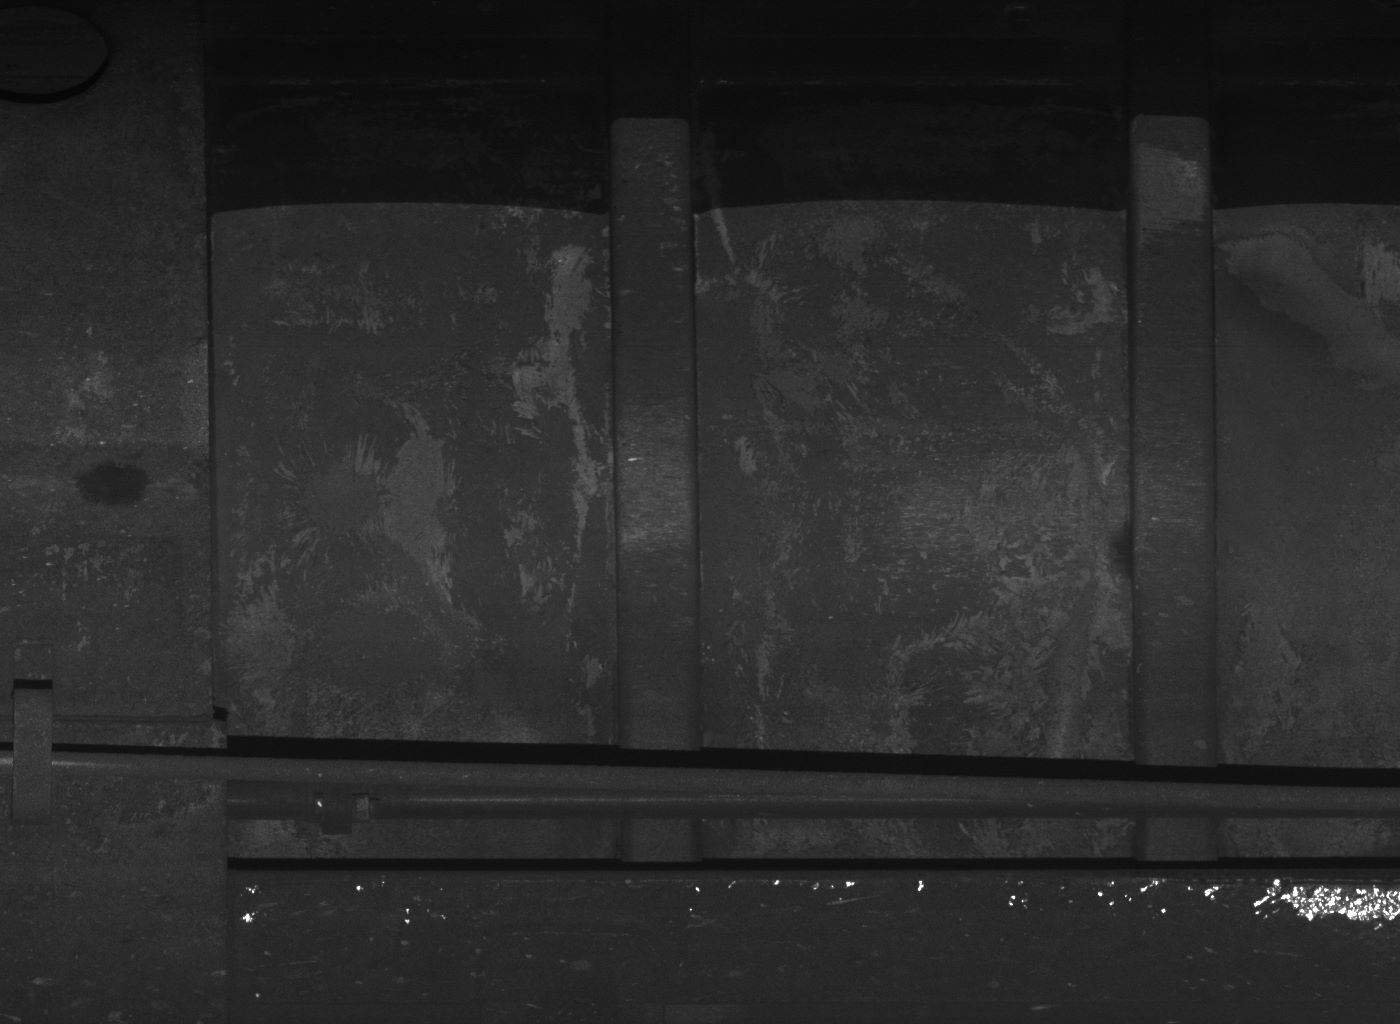normal: (13, 684, 49, 824)
